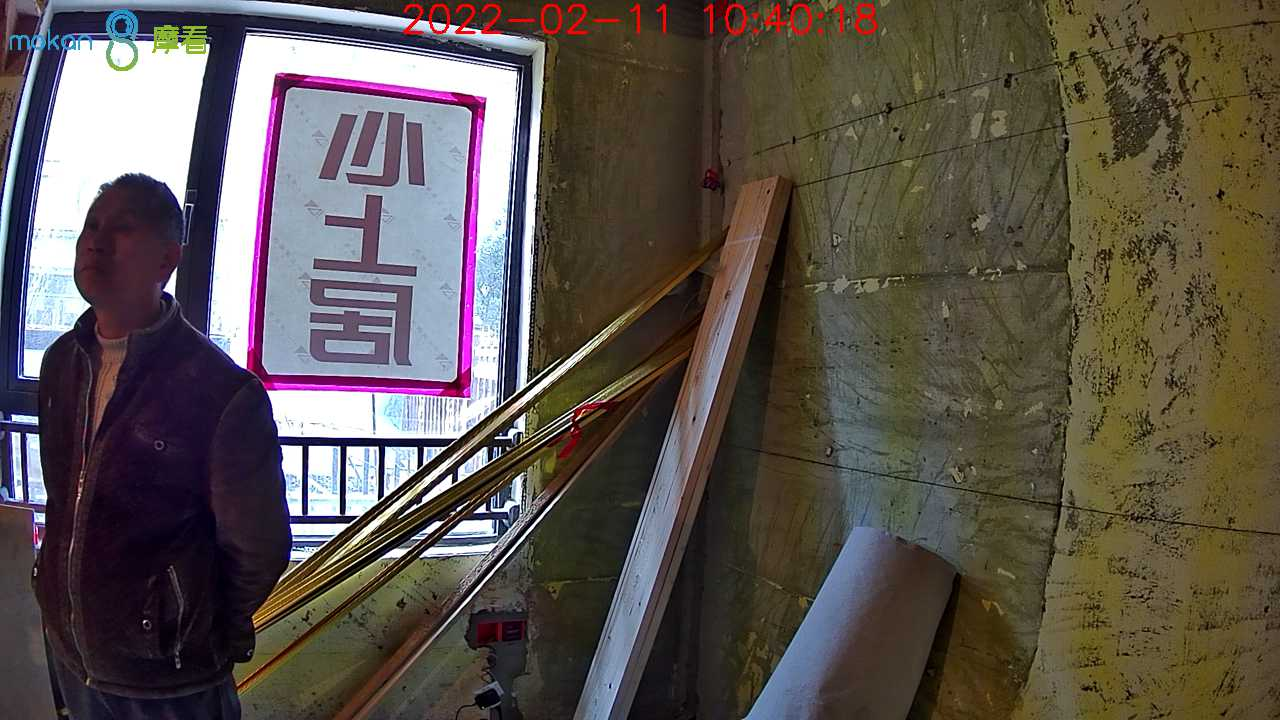people: (33, 172, 296, 720)
window: (14, 17, 522, 535)
